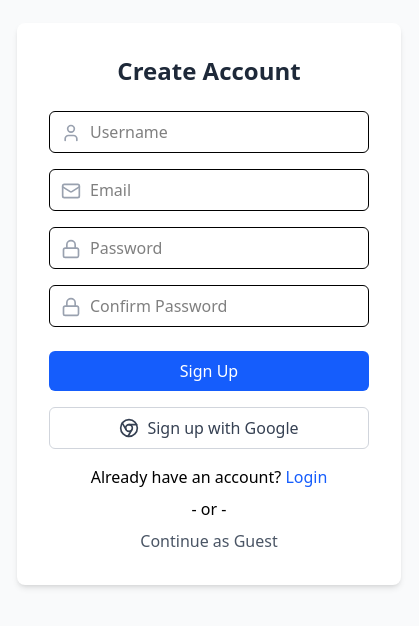
Test: UserSignup Component › handles signup error with server message
Type "testuser" into the field with placeholder "Username". click: coordinates (209, 132)
box: [49,111,369,153]
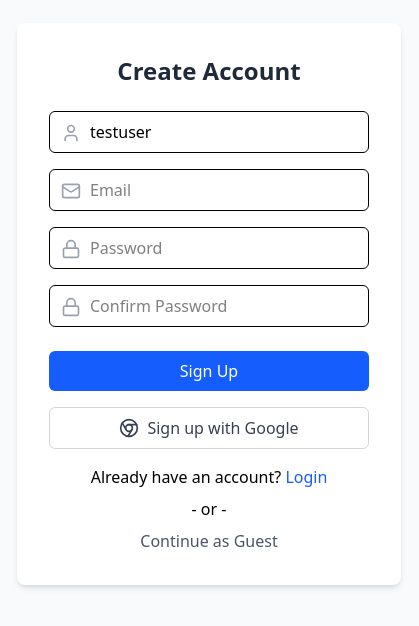
Type "test@example.com" into the field with placeholder "Email". click: coordinates (209, 190)
box: [49,169,369,211]
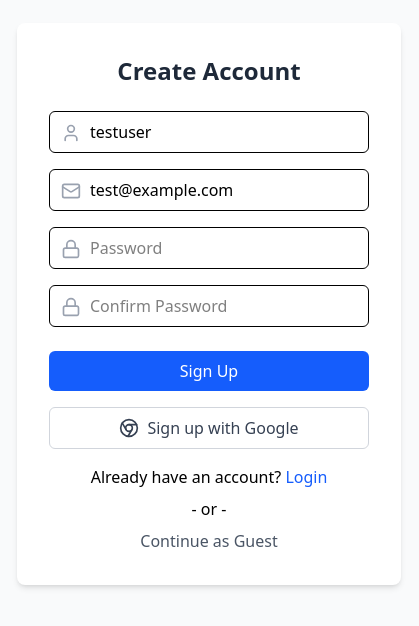
Type "password123" into the password field with placeholder "Password". click: coordinates (209, 248)
box: [49,227,369,269]
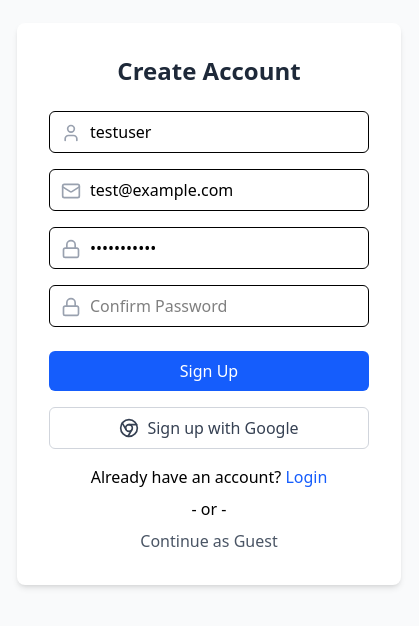
Type "password123" into the password field with placeholder "Confirm Password". click: coordinates (209, 306)
box: [49,285,369,327]
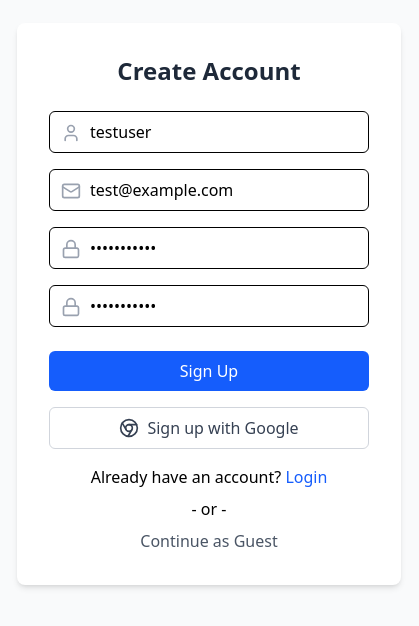
Click the button "Sign Up". click: coordinates (209, 371)
box: [49,351,369,391]
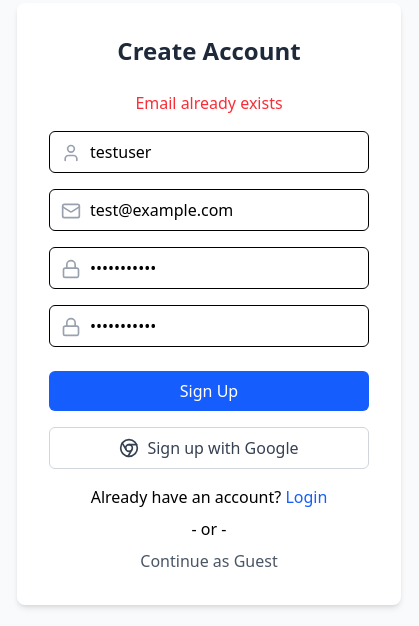
Expected: the text "Email already exists" is shown, [135,92,283,114]
